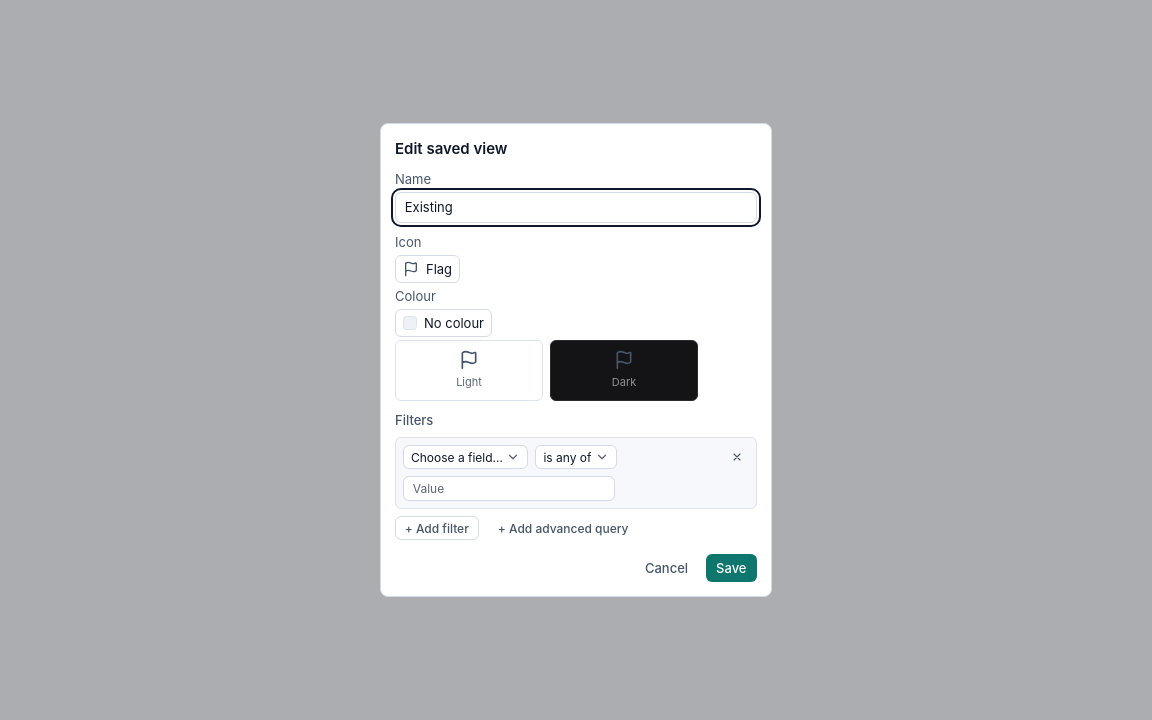
Test: ViewFormDialog — colour, and the emoji rule › DISABLES the colour control for an emoji icon, and states the reason
Expected: the field with test id "view-form-name" is shown, [395,192,757,223]
Click the button with test id "view-form-icon" at (428,269), box [395,255,460,283]
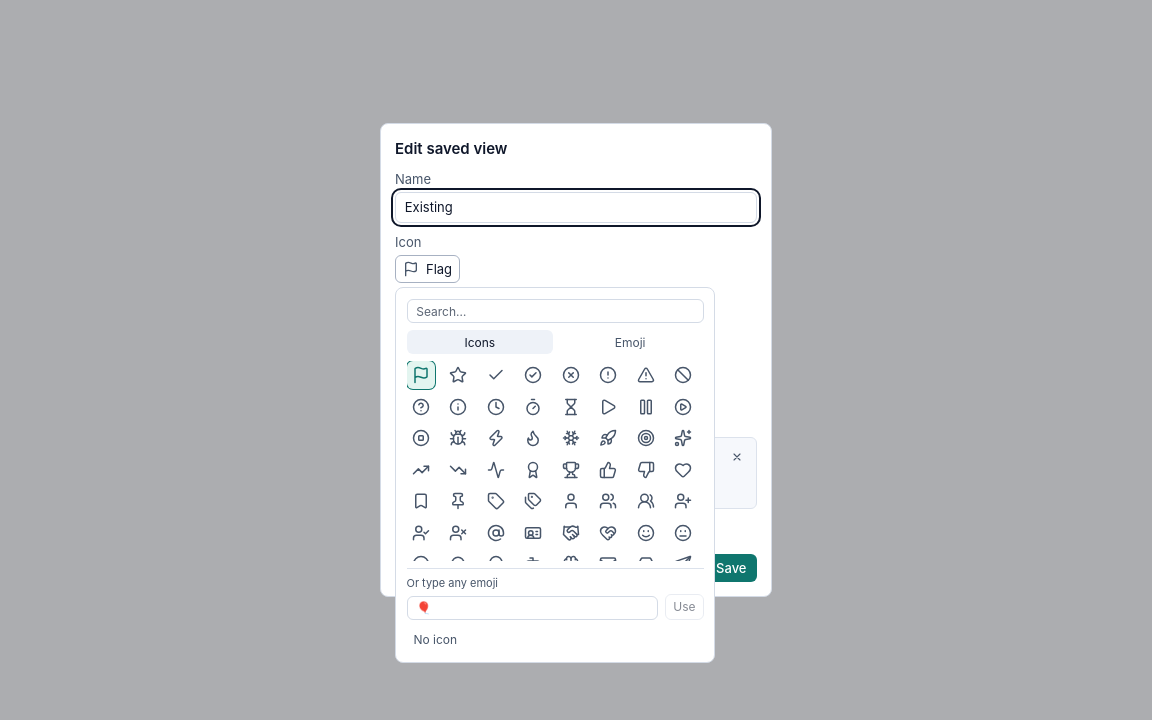
Click the tab "Emoji" at (630,342), box [557,330,704,354]
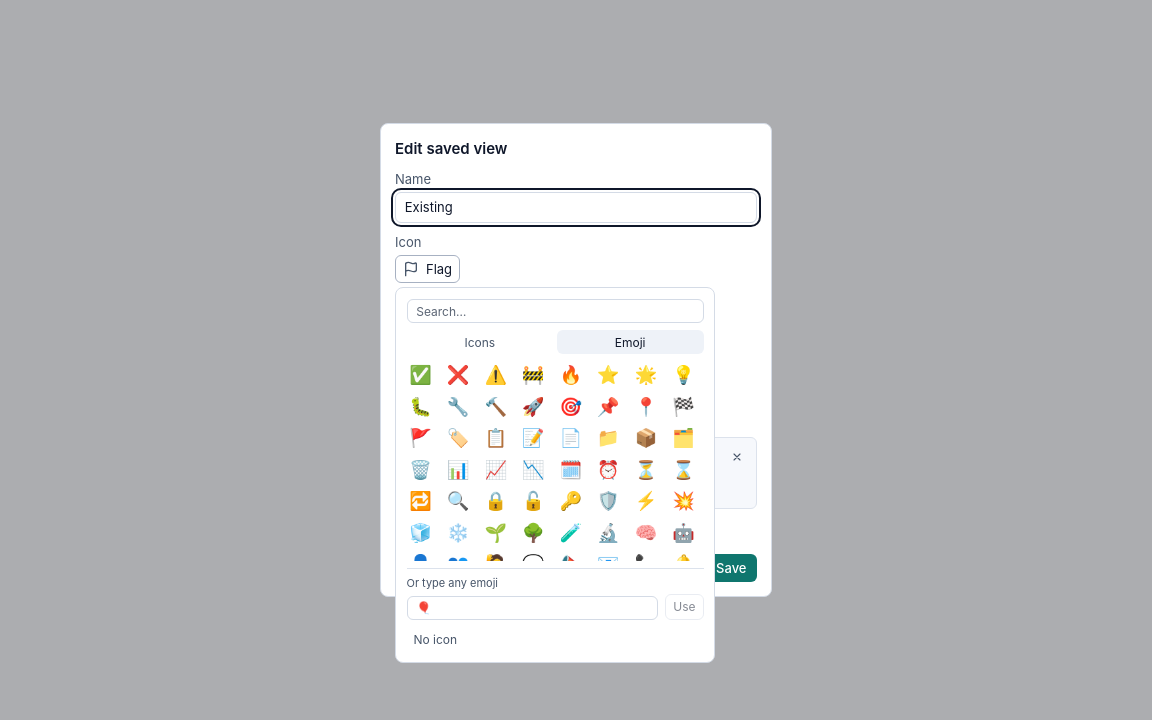
Click the cell "🚀" at (533,407), box [519,393,547,421]
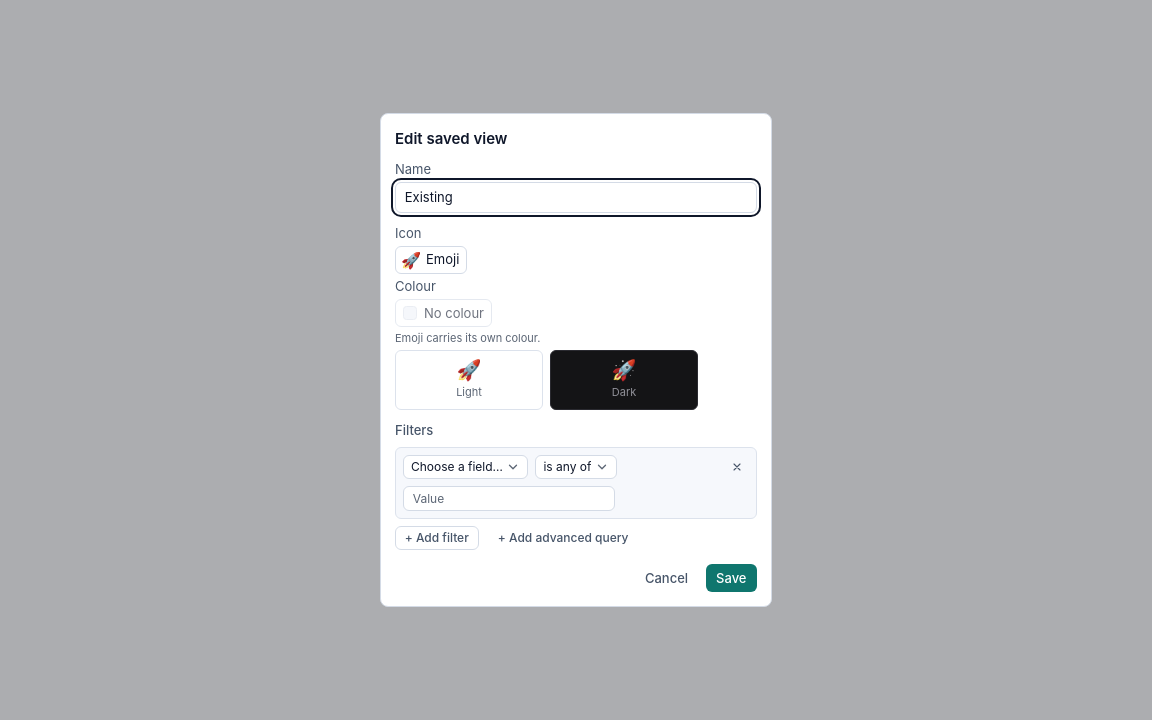
Expected: the button with test id "view-form-color-picker" is disabled, [395,299,492,327]
Result: the text with test id "view-form-color-picker-disabled-reason" shows "Emoji carries its own colour" at [395,331,540,345]
